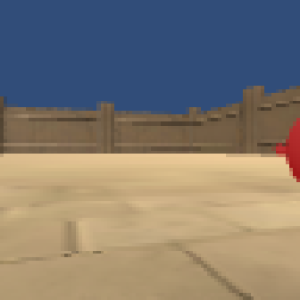badGoal: (286, 114, 300, 184), (273, 139, 288, 158)
